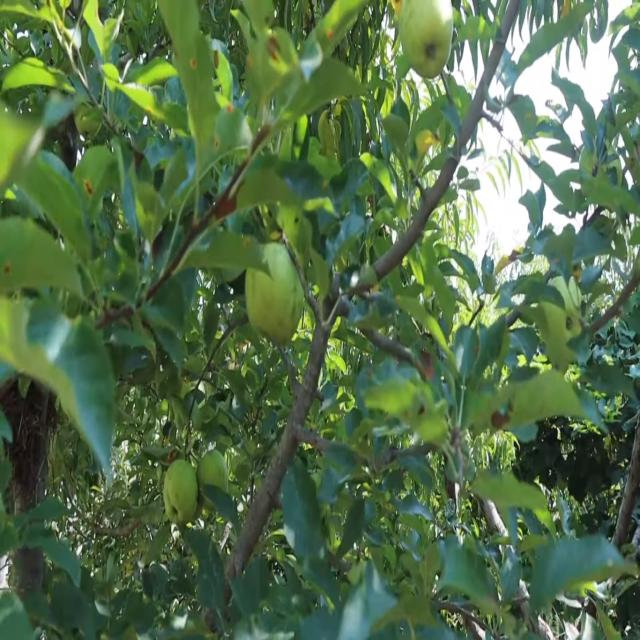100-_ripeness: (245, 240, 310, 344), (534, 268, 586, 371), (395, 0, 455, 80), (160, 454, 198, 529), (201, 443, 229, 513)
